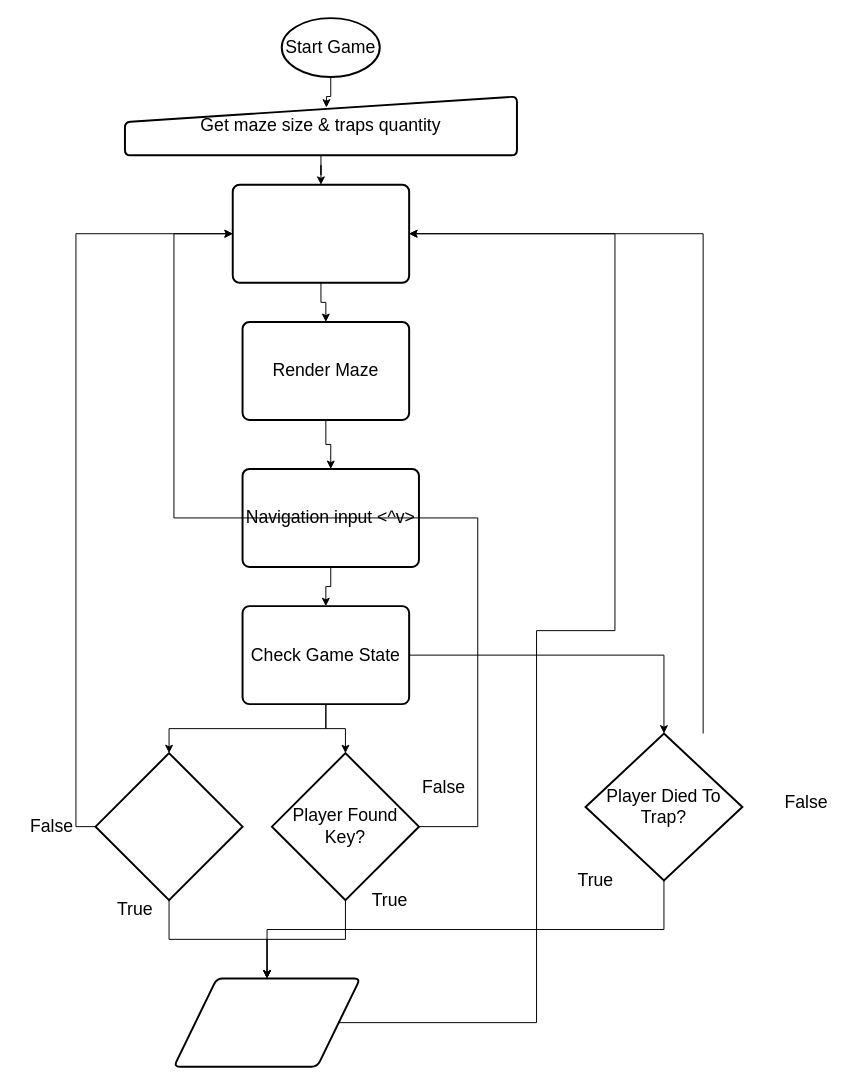
Some shapes in this 857 by 1084 pixel diagram are drawn without their labels. The centre of each missing label's shape, as x and y in pixels:
"Generate maze based on input" belongs at pixel 320 233.
"Notify Player" belongs at pixel 266 1022.
"Player Found Exit?" belongs at pixel 168 826.
